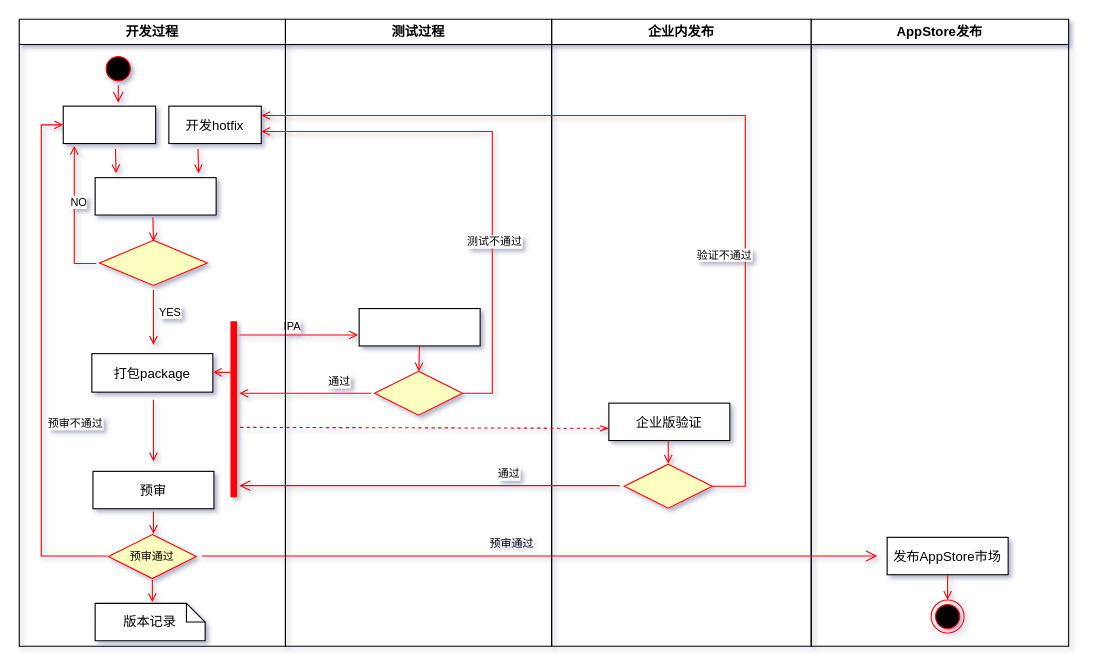
Image size: 1095x672. Some labels were removed from this diagram. The shapes that lost their labels are listed below. From the top down, each one's centre as x and y in pixels, then its label:
At point 109,124: "开发feature".
At point 155,196: "业务合并更新".
At point 152,262: "配置验证通过".
At point 419,326: "测试验证".
At point 418,392: "测试通过？".
At point 667,485: "验证通过？".
